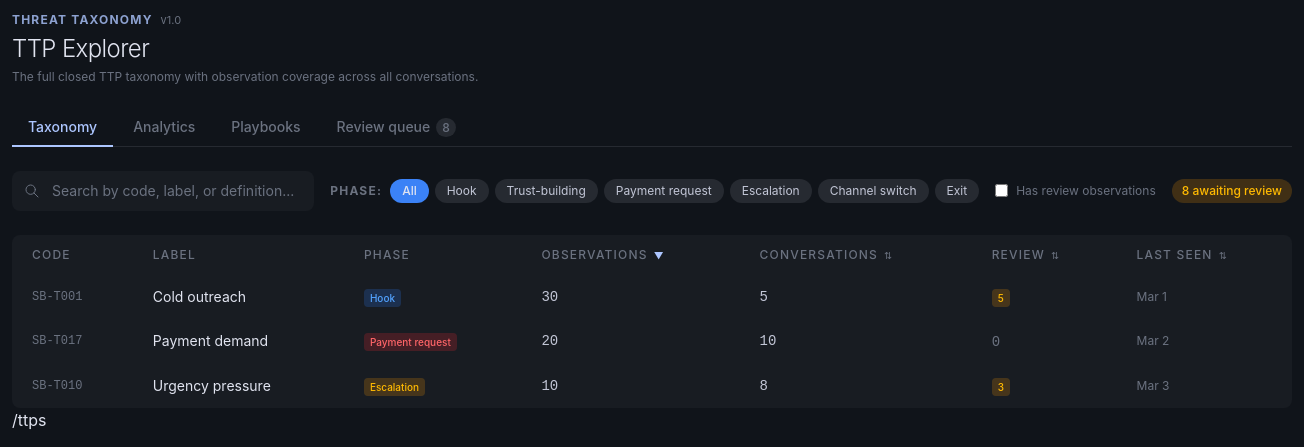
TtpExplorer — coverage gaps › resets the phase filter with the All chip
expect the text "Cold outreach" is shown: met, box [133,274,344,319]
Click the button "Escalation".
click(771, 190)  # box [730,178,812,202]
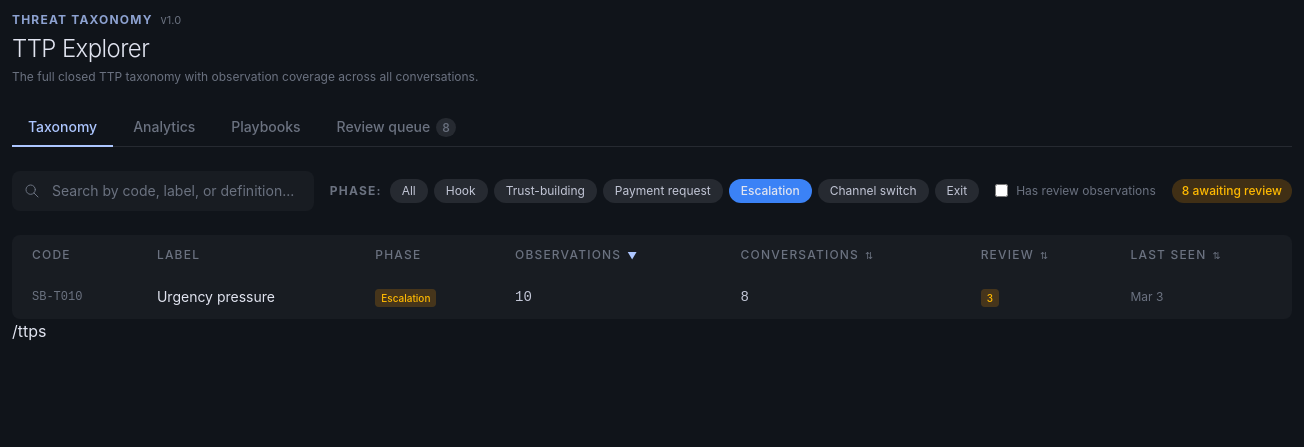
expect the text "Urgency pressure" is shown: met, box [137,274,355,319]
expect the link "Cold outreach" is gone: met
Click the button "All".
click(409, 190)  # box [390,178,428,202]
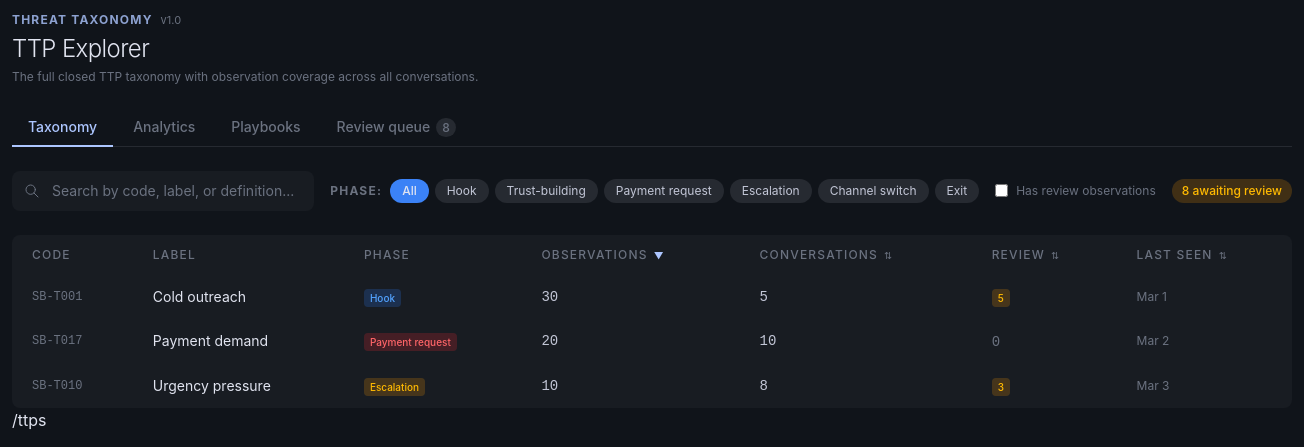
expect the text "Cold outreach" is shown: met, box [133,274,344,319]
